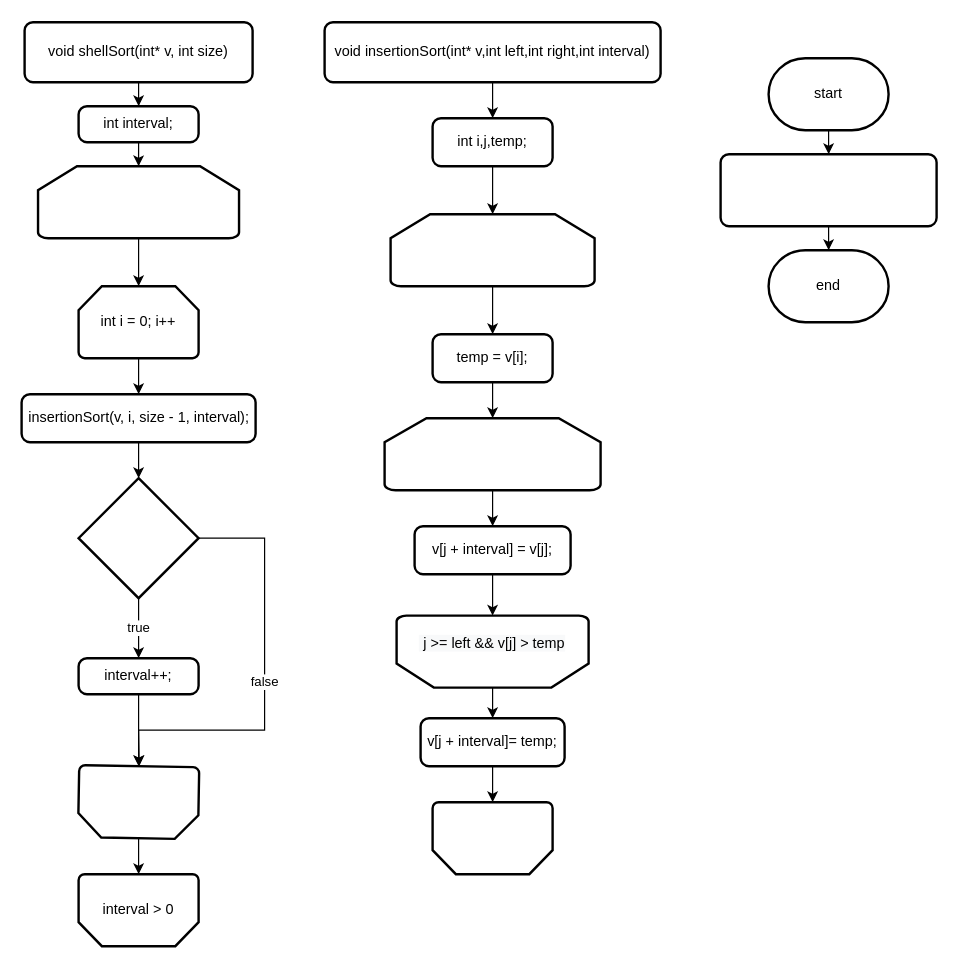
Some shapes in this 959 by 967 pixel diagram are drawn without their labels. Each missing label, with the centre of its shape:
"(interval % 2) == 0" goes at point (138, 537).
"i < interval" goes at point (138, 801).
"i <= right" goes at point (492, 837).
"i = left+ interval; i+= interval" goes at point (492, 249).
"int list[8] = { 8,1,4,2,7,6,3,5 }; shellSort(list,8); return 0;" goes at point (828, 189).
"interval = size / 2; interval /= 2" goes at point (138, 201).
"j = i - interval; j-= interval" goes at point (492, 453).
